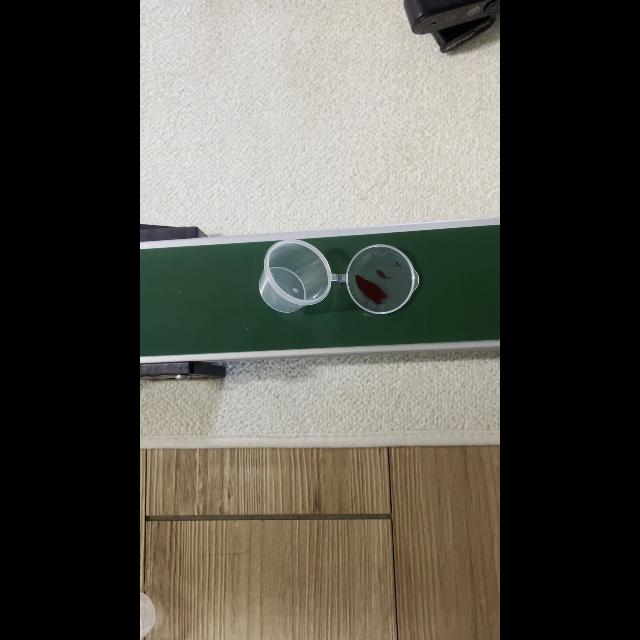dirty: (260, 240, 410, 308)
